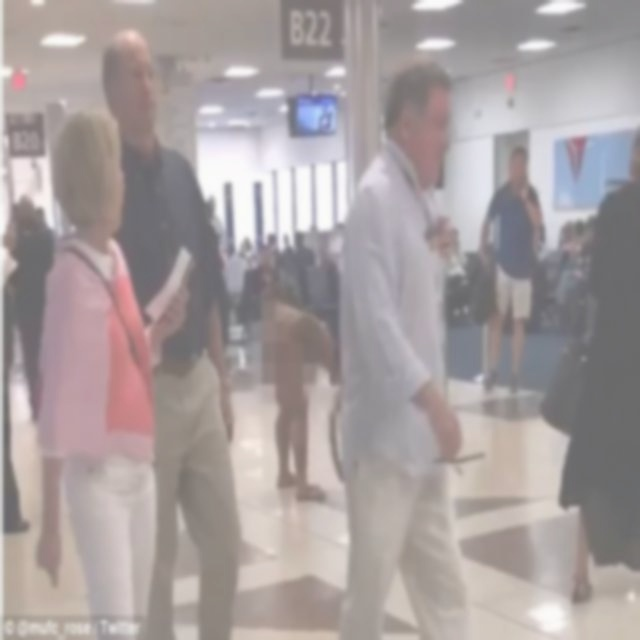pessoa: (26, 96, 197, 638), (98, 24, 244, 638), (330, 56, 477, 638), (557, 128, 639, 608), (476, 137, 550, 406), (205, 192, 326, 330), (270, 298, 342, 502), (8, 196, 56, 422), (1, 166, 30, 536), (536, 220, 596, 296), (443, 226, 471, 320), (31, 193, 58, 250), (478, 214, 494, 284), (330, 214, 347, 228)
